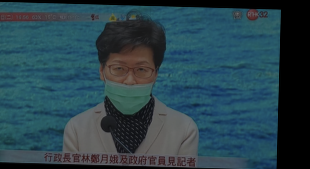mask_weared_incorrect: (102, 58, 155, 116)
